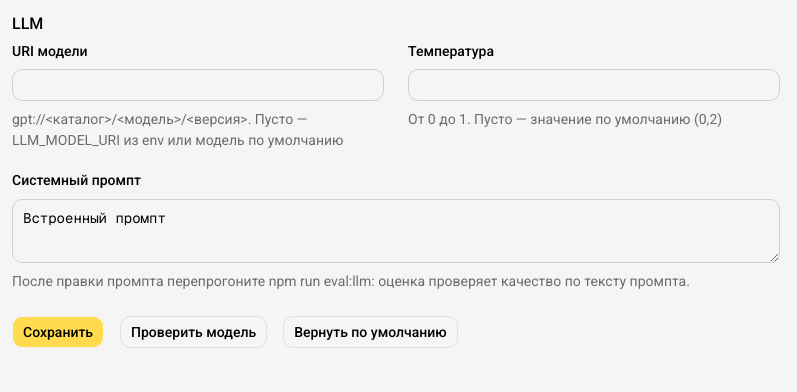
LlmSettingsForm › «Проверить модель» с плохим URI — action не вызывается
Type "x" into the field labelled "URI модели" at (198, 85), box [12,69,384,101]
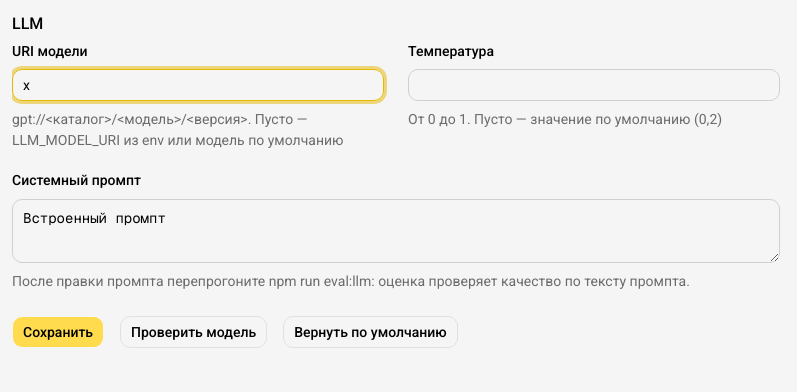
Click the button "Проверить модель" at (194, 332), box [120,316,267,348]
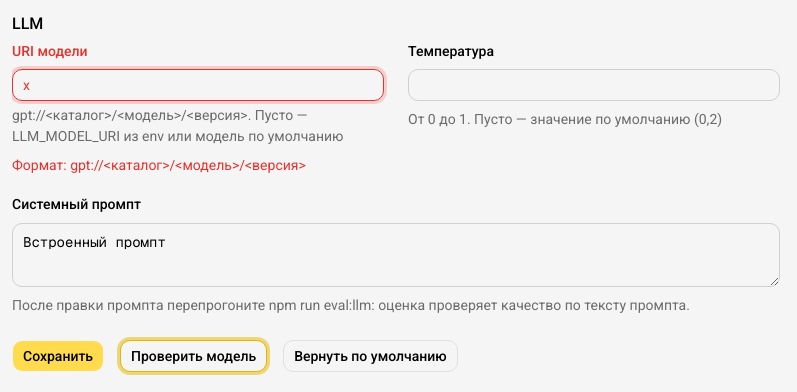
Now the text "Формат: gpt://<каталог>/<модель>/<версия>" is shown, box [12,157,306,173]
